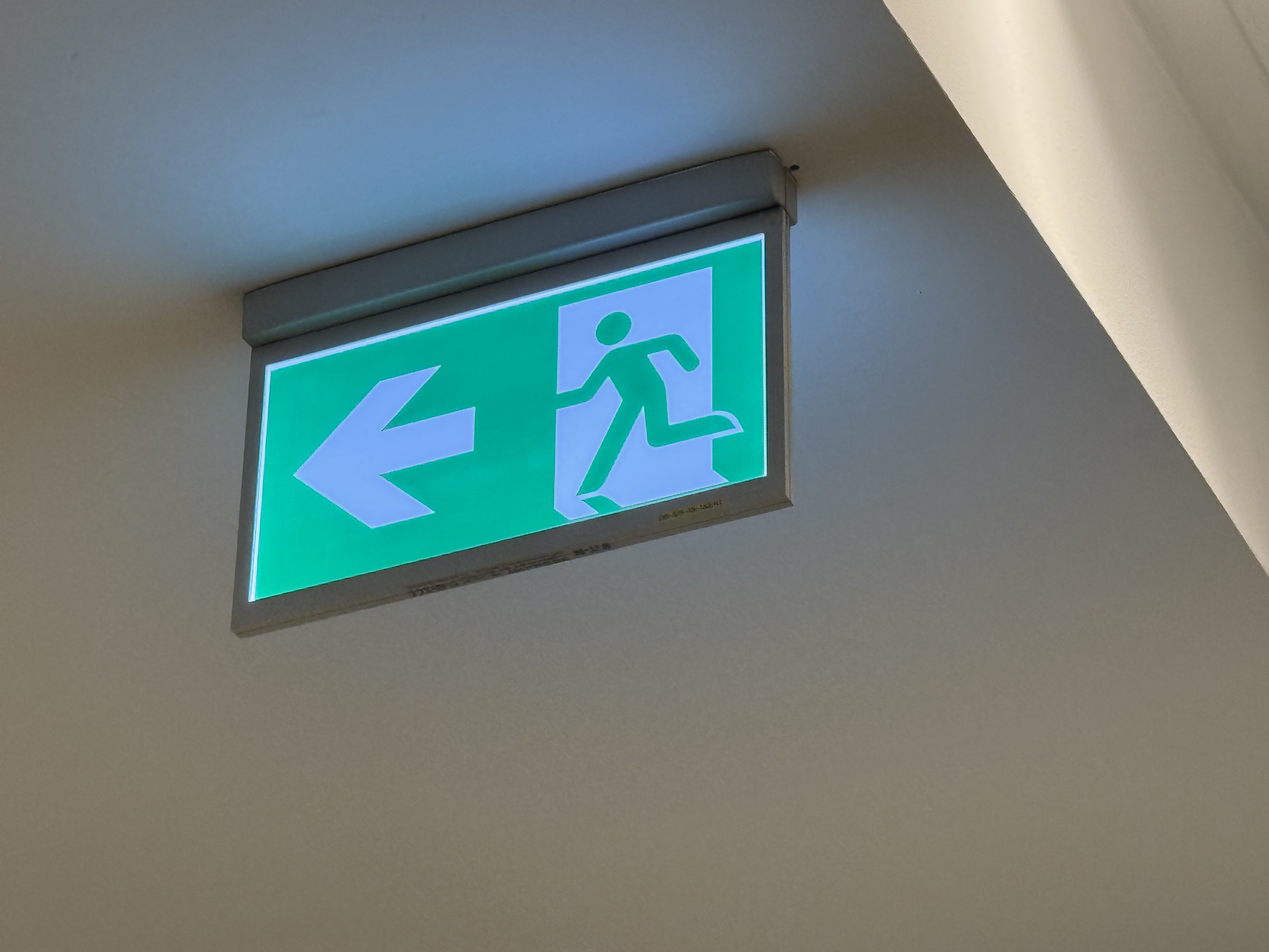emergency_exit: (229, 149, 799, 637), (230, 216, 793, 634)
